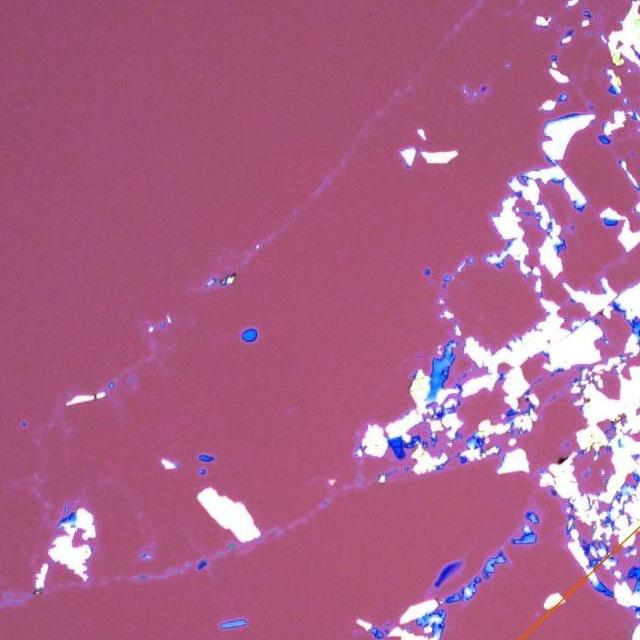monolayer-eWW4: (449, 562, 463, 578)
